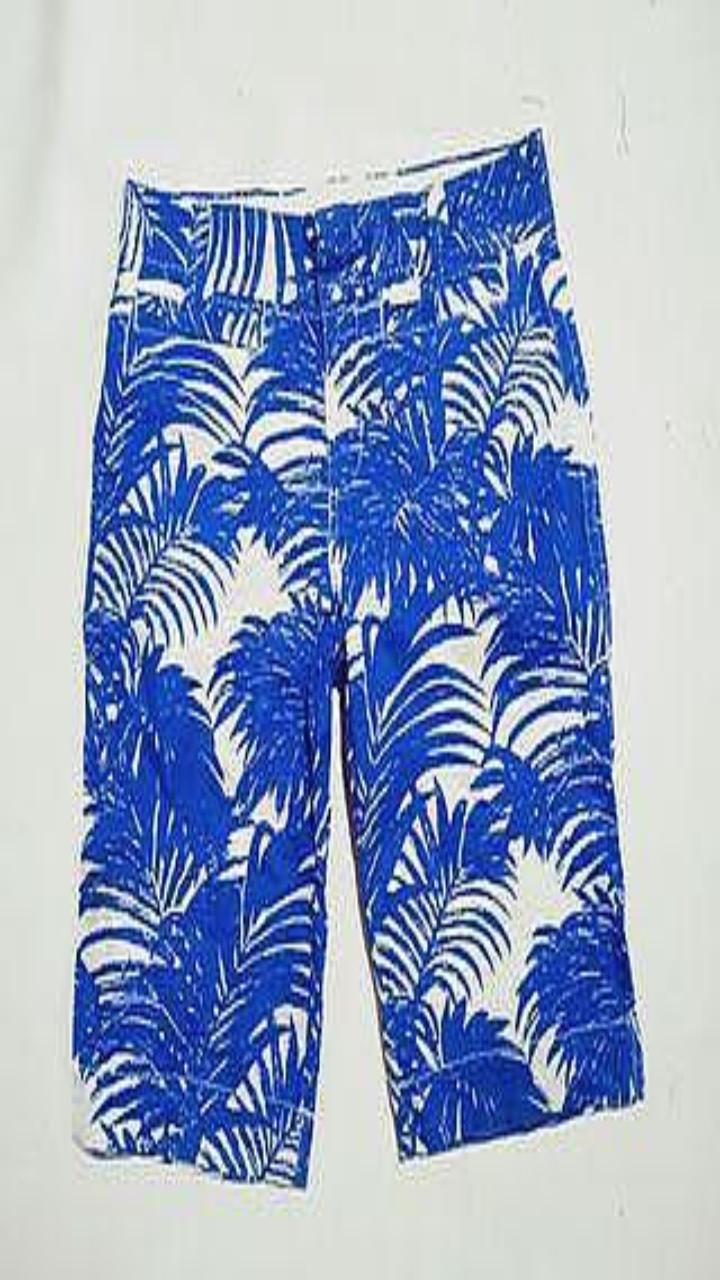Shorts: (74, 128, 643, 1186)
